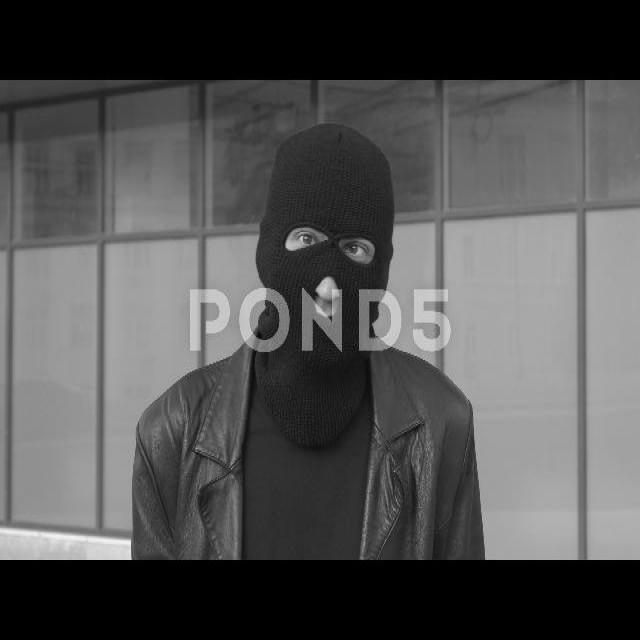6_pasamontana: (256, 122, 396, 450)
